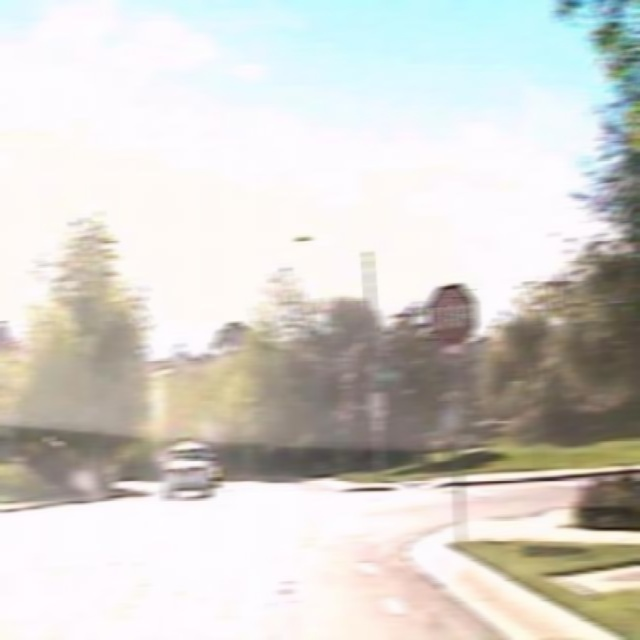stop: (428, 284, 476, 346)
